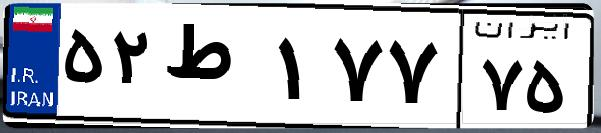1: (270, 28, 330, 110)
2: (110, 28, 158, 98)
5: (57, 26, 110, 100), (525, 38, 570, 115)
7: (385, 28, 445, 110), (330, 28, 385, 110), (475, 38, 525, 113)
ط: (158, 20, 270, 120)
